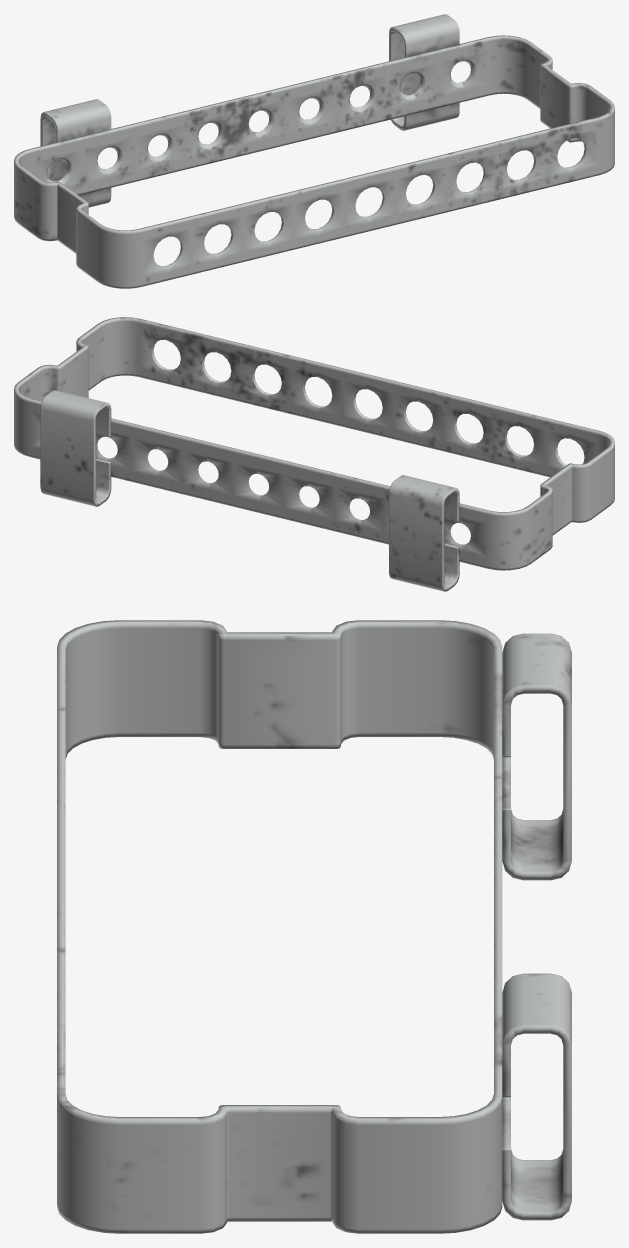
The model's file is test_tube_rack.obj.
3 renders of one model, top to bottom at view 1: azimuth 30°, elevation 25°; view 2: azimuth 150°, elevation 25°; view 3: azimuth 270°, elevation 25°, orthographic. The views are drawn at different scales.
Parts seen in each view (by area): view 1: low_test_tube_rack; view 2: low_test_tube_rack; view 3: low_test_tube_rack.
Part boxes in pixels (x1,y1,x2,y2): low_test_tube_rack: (14, 14, 614, 288); low_test_tube_rack: (14, 317, 614, 591); low_test_tube_rack: (57, 620, 571, 1233).
Bounding box in the file's own units: 0.2788 × 0.0505 × 0.1212.
Materials: 1 (1 with a texture image).
